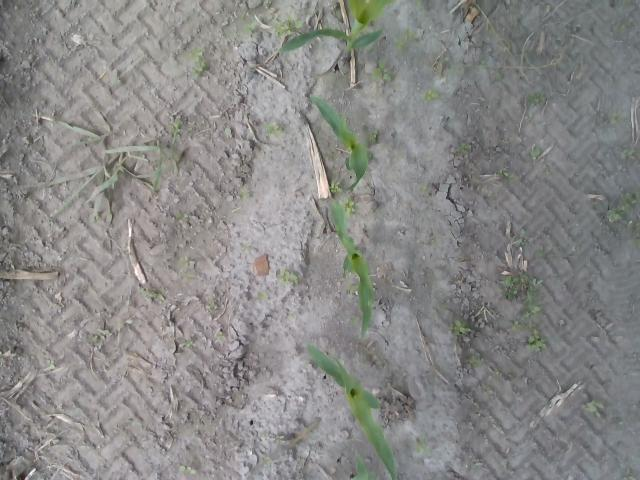Maize: (19, 113, 162, 226), (302, 342, 398, 480), (276, 0, 390, 64), (325, 198, 375, 336), (306, 92, 372, 192), (353, 452, 372, 480)
Weeds: (496, 271, 540, 301), (606, 191, 639, 222), (274, 15, 306, 40), (189, 47, 211, 78), (369, 60, 396, 82), (395, 27, 417, 51), (518, 300, 542, 318), (526, 331, 546, 352), (276, 268, 301, 284), (172, 118, 192, 138), (450, 319, 470, 338), (339, 196, 356, 217), (526, 90, 548, 104), (418, 88, 439, 102), (606, 112, 622, 129), (464, 352, 480, 368), (264, 123, 284, 134), (416, 439, 430, 454), (326, 182, 343, 194), (179, 464, 196, 476), (622, 150, 640, 161), (622, 466, 636, 480), (590, 400, 604, 414), (178, 254, 192, 268), (176, 212, 190, 226), (147, 289, 163, 301), (494, 166, 510, 178), (205, 302, 222, 313), (274, 434, 287, 446), (260, 456, 273, 468), (244, 22, 258, 32), (530, 147, 542, 157), (183, 340, 195, 350), (370, 129, 378, 144), (461, 143, 472, 153), (512, 321, 520, 330)
